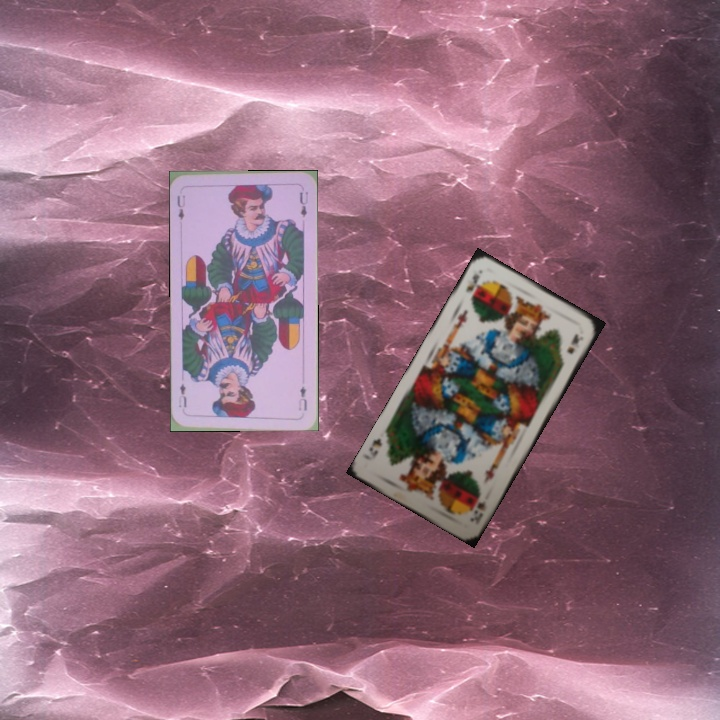EU: (294, 382, 309, 413), (173, 191, 187, 222)
SK: (466, 496, 489, 527), (461, 270, 482, 303)
